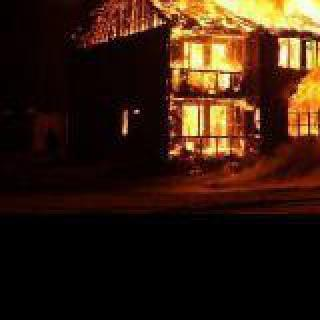fire: (172, 38, 320, 152), (172, 0, 320, 28)
